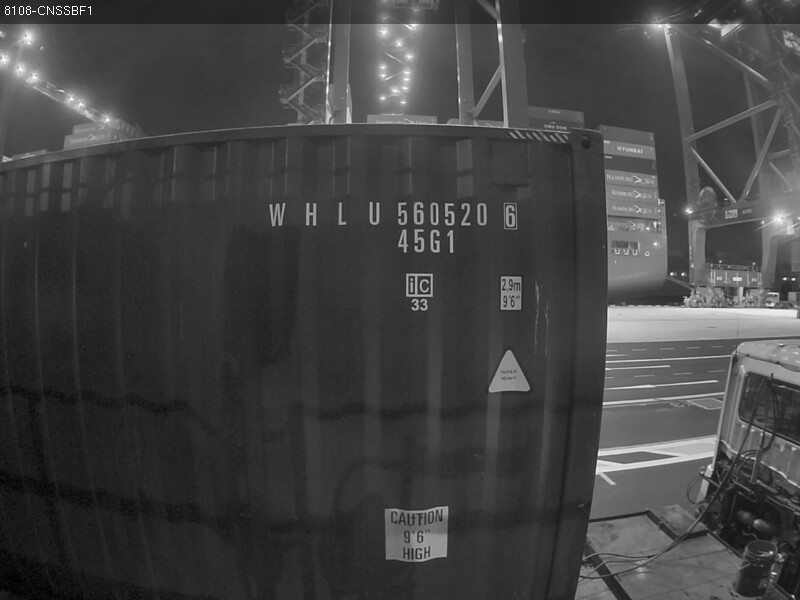container_no_door: (205, 115, 613, 599)
